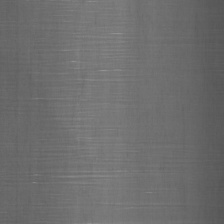waist_folding: (8, 6, 213, 193)
